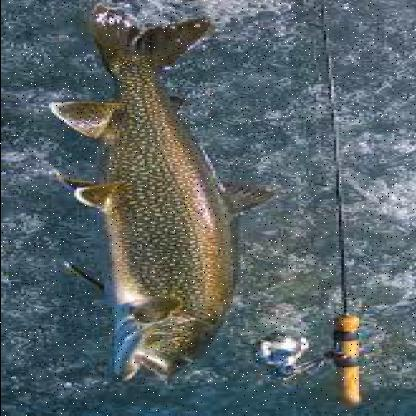fish: (47, 5, 273, 382)
